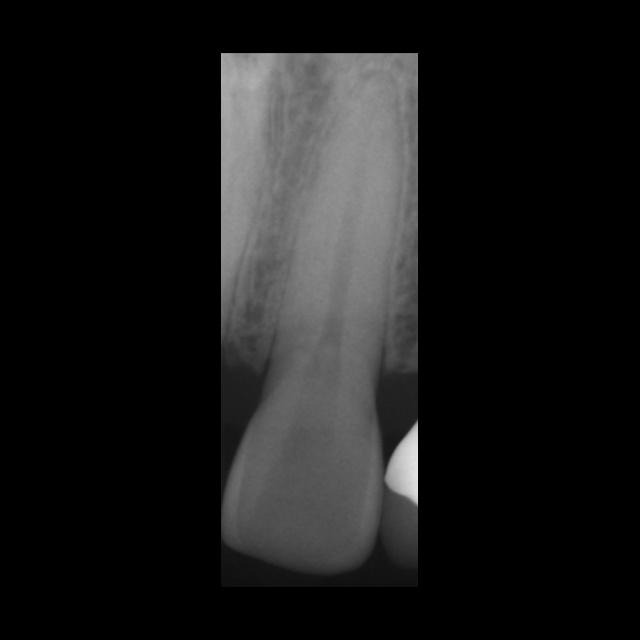tooth: (221, 53, 417, 573)
